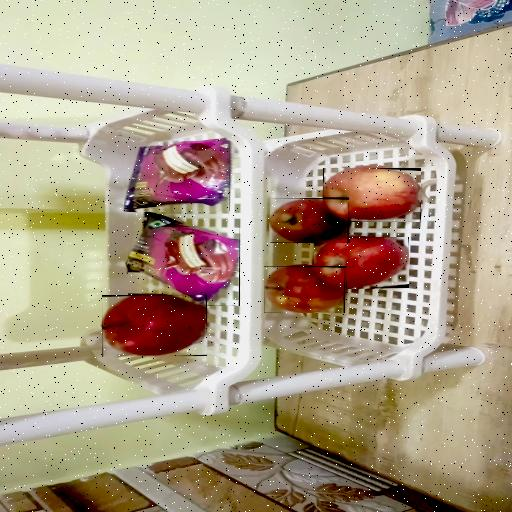Apple: (102, 296, 207, 358), (323, 168, 421, 222), (312, 238, 408, 290), (264, 266, 345, 313), (270, 198, 349, 243)
Choco Pie: (128, 214, 240, 306), (124, 142, 230, 212)
